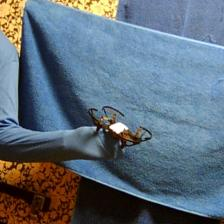drone: (87, 104, 154, 151)
